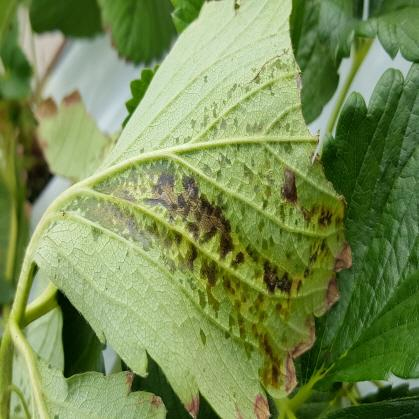Angular Leafspot: (33, 0, 352, 418), (28, 352, 168, 418)
